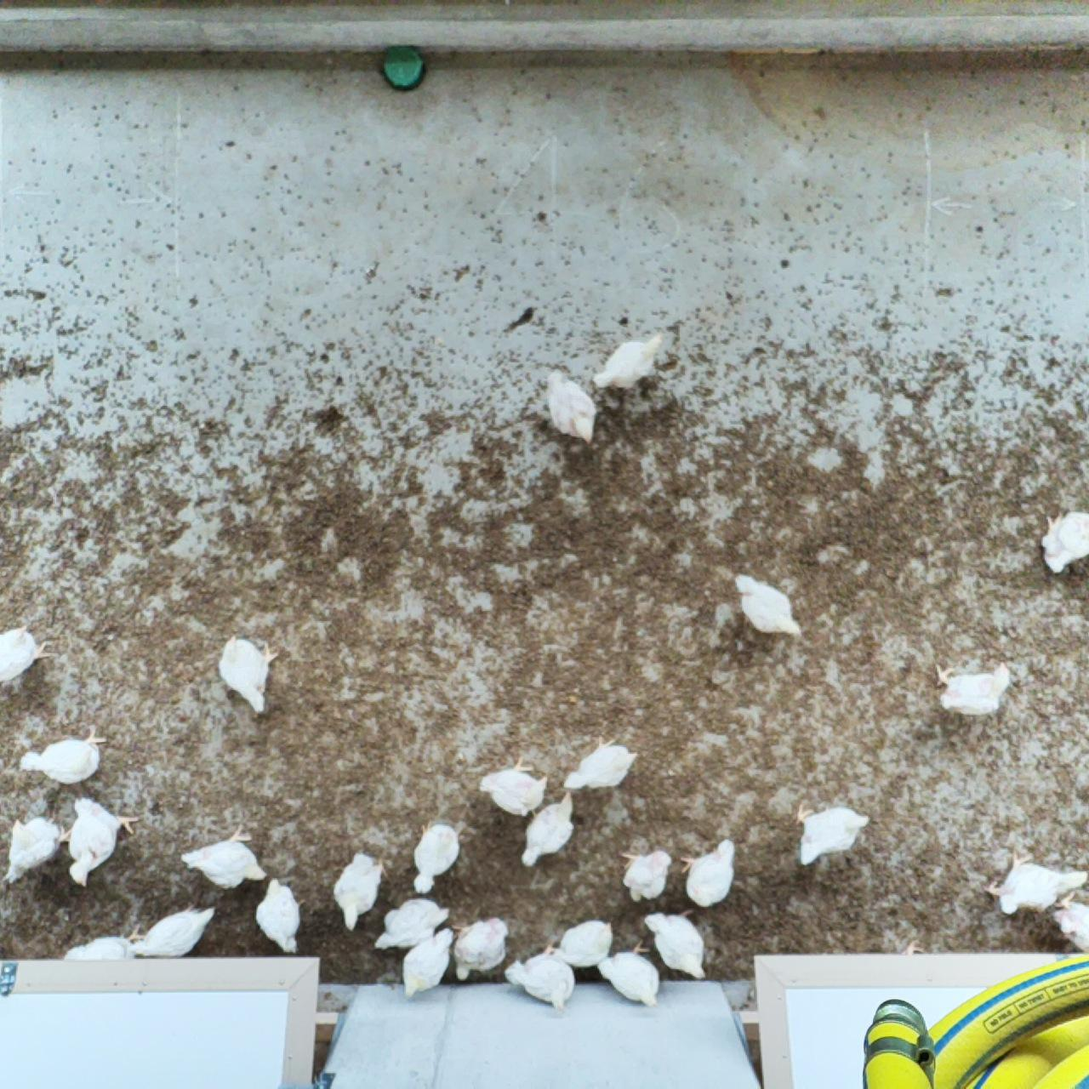chicken: (985, 848, 1089, 919), (64, 795, 141, 888), (17, 722, 111, 791), (181, 822, 269, 891), (128, 900, 218, 960), (219, 632, 279, 720), (934, 656, 1013, 722), (730, 571, 804, 641), (2, 811, 70, 887), (795, 800, 873, 866), (643, 909, 710, 983), (502, 946, 576, 1013), (411, 819, 470, 899), (331, 849, 387, 932), (596, 941, 664, 1009), (477, 756, 550, 817), (374, 895, 452, 952), (562, 734, 640, 790), (544, 368, 600, 444), (519, 793, 576, 867), (452, 914, 512, 983), (683, 837, 738, 911), (592, 331, 663, 388), (399, 928, 456, 999), (62, 921, 146, 967), (546, 916, 617, 970), (1038, 507, 1089, 579), (0, 621, 54, 686), (616, 845, 672, 905), (1054, 892, 1089, 958)
